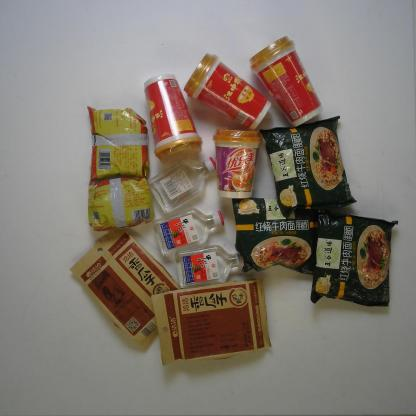Alcohol: (147, 155, 218, 214), (152, 208, 226, 256), (176, 244, 246, 288)
Dried Food: (71, 228, 181, 354), (147, 277, 274, 364)
Instant Drink: (184, 52, 274, 129), (248, 34, 320, 126), (144, 74, 203, 162), (213, 126, 261, 198)
Instant Noodles: (258, 115, 356, 217), (309, 211, 398, 311), (231, 193, 327, 274)
Seasoner: (86, 104, 151, 178), (86, 174, 156, 230)
